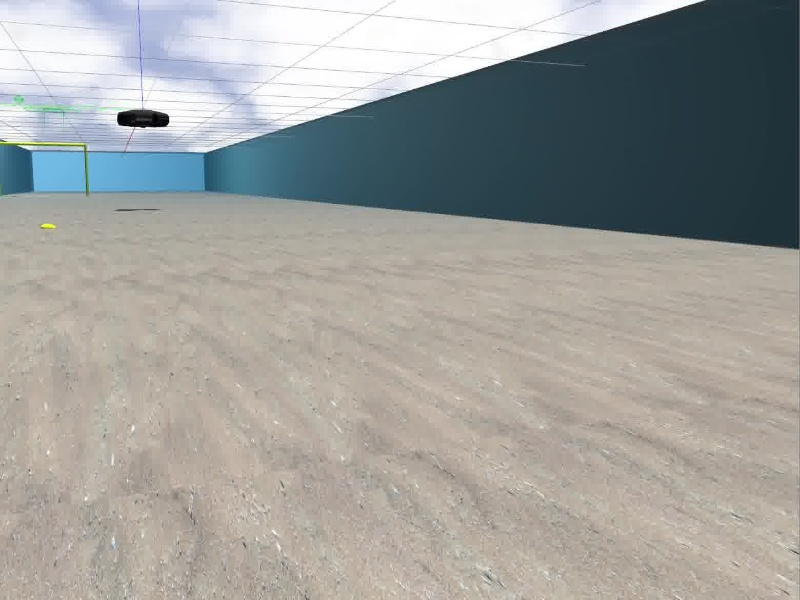gate: (1, 141, 89, 198)
